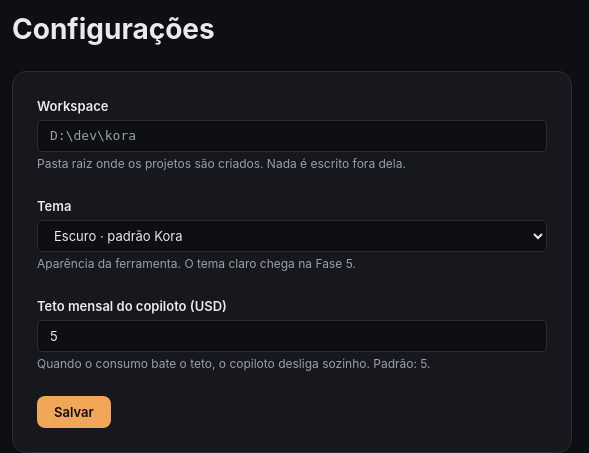
Test: PaginaConfig › teto inválido é barrado no cliente sem chamar a API
(page scrolled)
Replace the text in the number field labelled "Teto mensal do copiloto (USD)" with "-3" at x=292, y=336, box [37, 320, 547, 352]
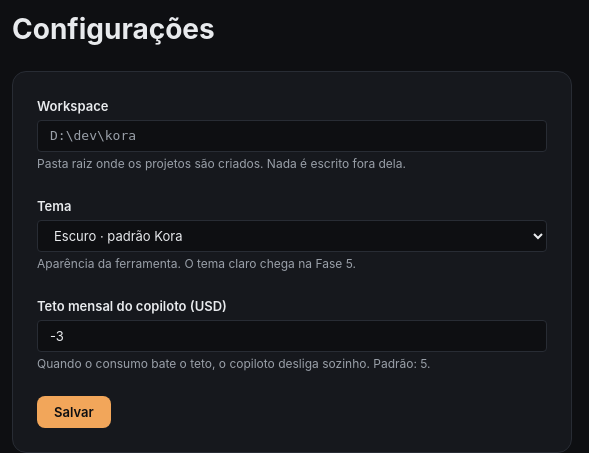
Click the button "Salvar".
click(74, 412)  # box [37, 396, 111, 428]
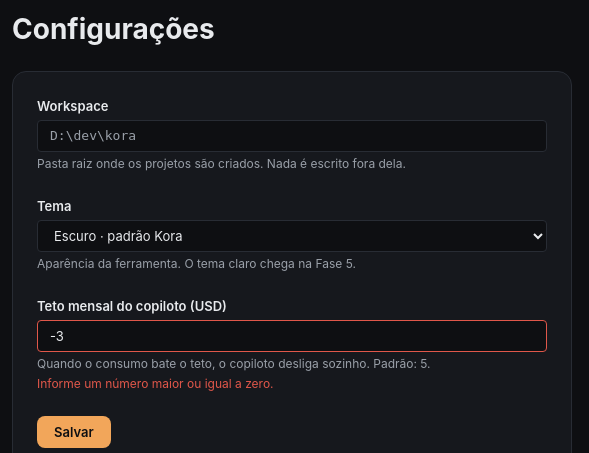
Result: the message reads "Informe um número maior ou igual a zero." at [37, 376, 274, 391]
